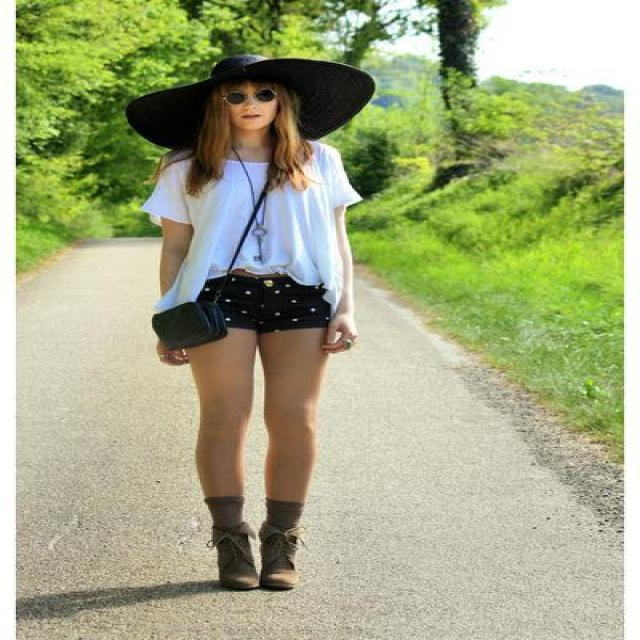bag: (152, 280, 229, 344)
hat: (125, 56, 373, 154)
shirt: (138, 142, 362, 319)
shoe: (211, 525, 296, 591)
shorts: (211, 274, 330, 336)
sunglass: (225, 83, 262, 114)
